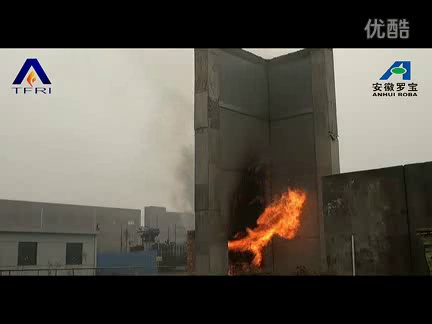fire: (227, 189, 307, 267)
